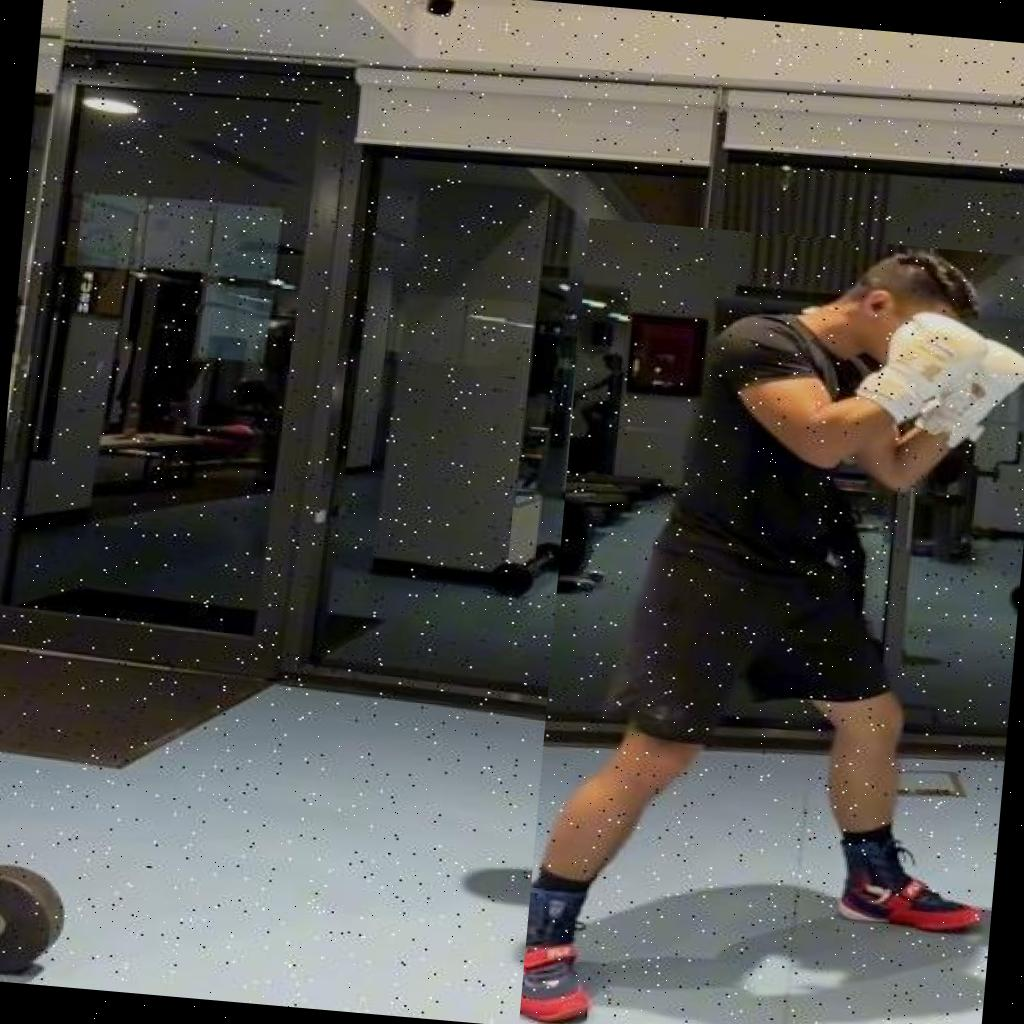no punch: (519, 217, 1024, 1024)
